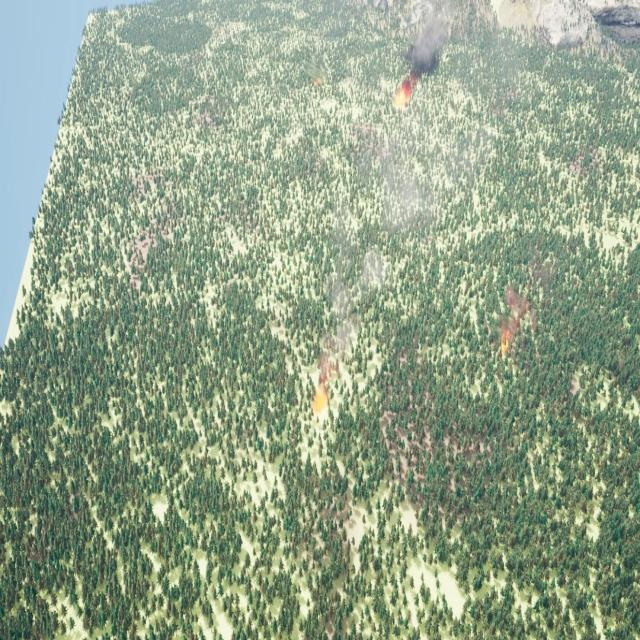fire: (314, 377, 327, 407), (396, 82, 411, 103), (500, 328, 509, 352)
smoke: (404, 11, 446, 85), (508, 283, 527, 337)
